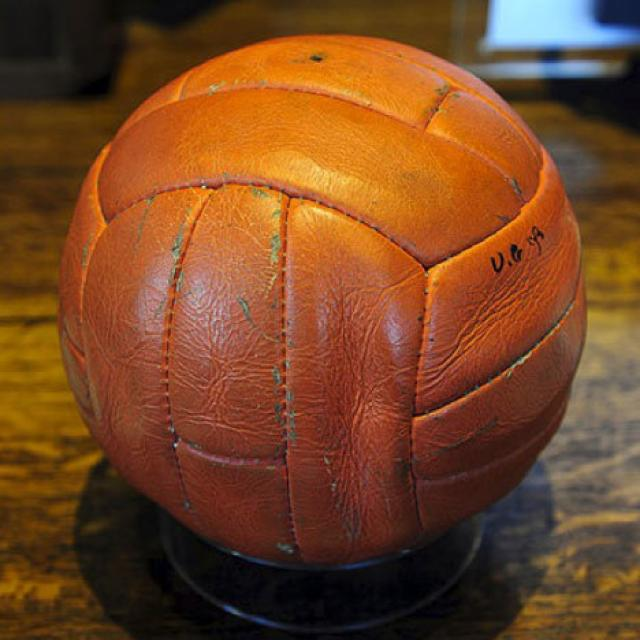soccer ball: (59, 33, 588, 566)
